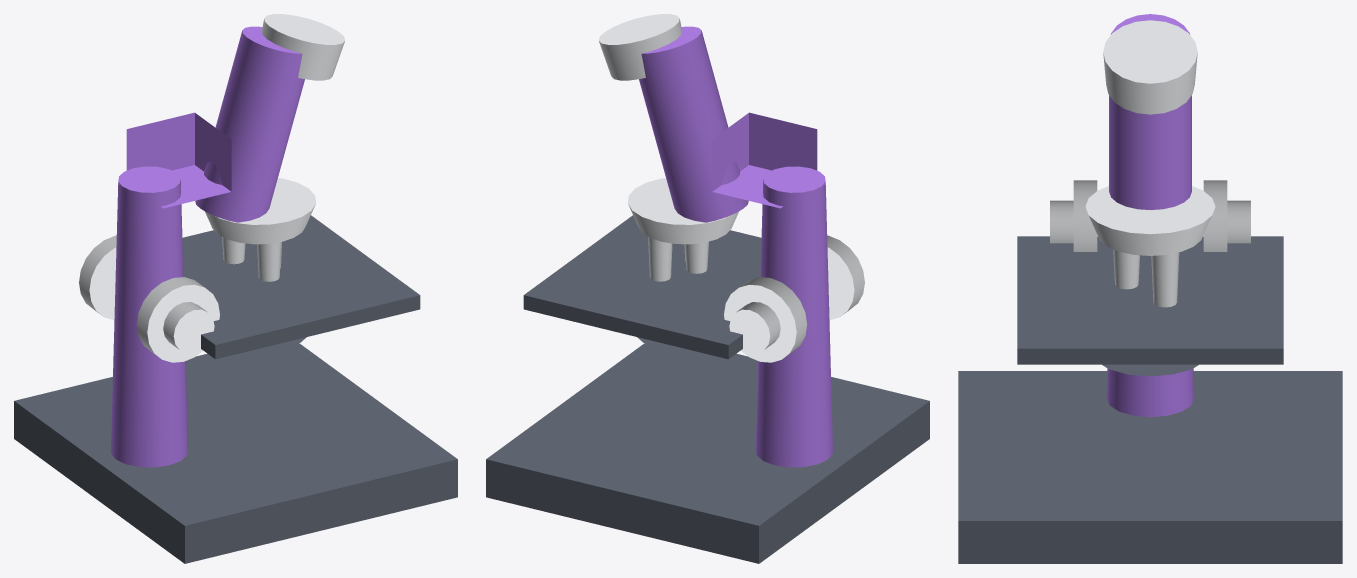
Rendered from microscopio.glb.
3 views of the same model, side by side, from view 1: azimuth 30°, elevation 25°; view 2: azimuth 150°, elevation 25°; view 3: azimuth 270°, elevation 25° (orthographic). The views are drawn at different scales.
Visible parts, largest first — view 1: MicroscopioRoot; view 2: MicroscopioRoot; view 3: MicroscopioRoot.
Boxes of the visible parts, left/top/right/bottom form: MicroscopioRoot: left=14, top=14, right=457, bottom=563; MicroscopioRoot: left=486, top=14, right=929, bottom=563; MicroscopioRoot: left=958, top=14, right=1342, bottom=563.
Size of the model in its own units: 1.2 by 1.82 by 1.3.
